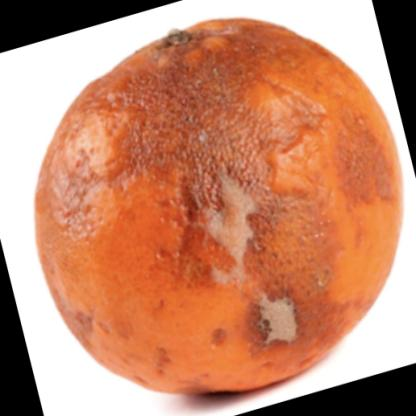rotten: (34, 18, 388, 390)
